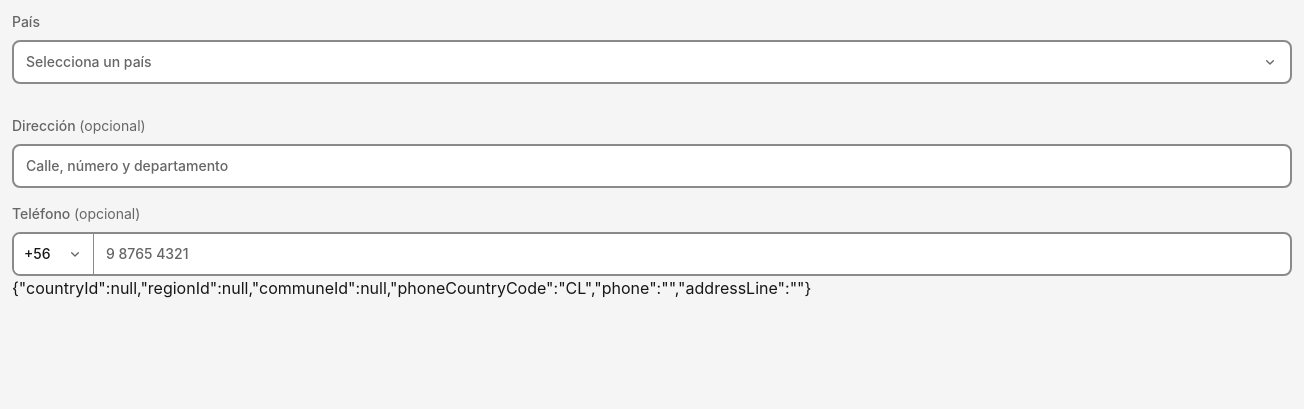
UserContactFields › does not preload address countries and limits searched results
Click the button "Selecciona un país" at (89, 62), box [12,40,1292,84]
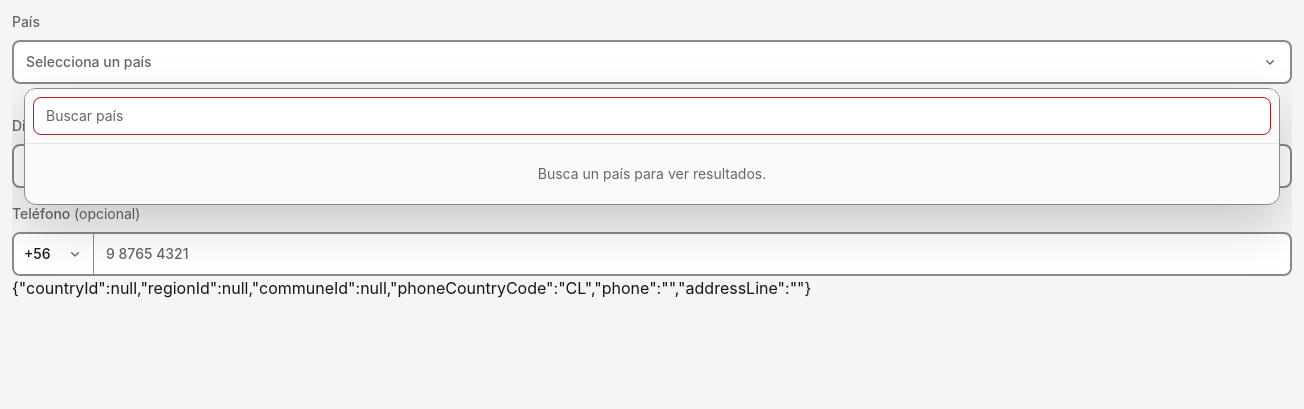
Check: the text "Busca un país para ver resultados." is shown, box [538,165,766,182]
Type "País de prueba" into the search field labelled "Buscar país" at (652, 116), box [33,97,1271,135]
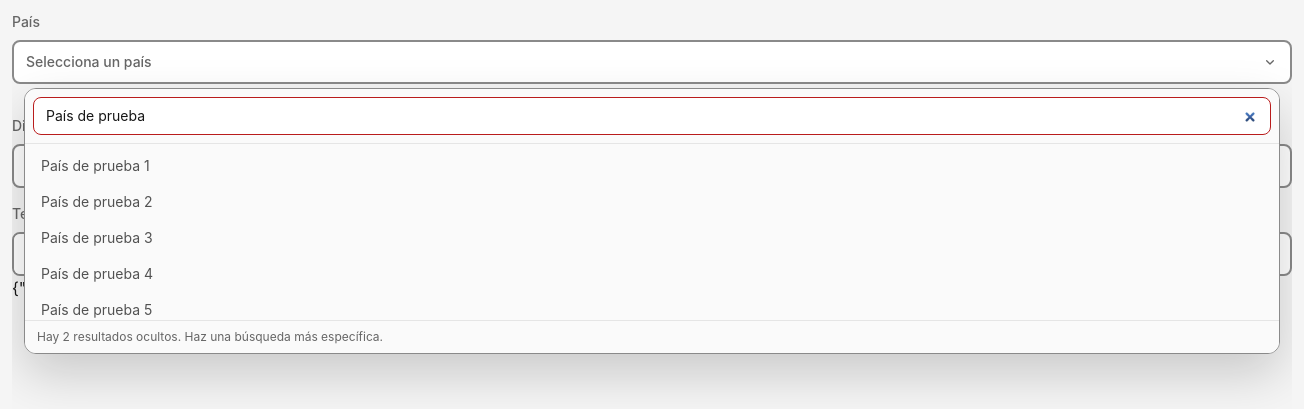
Check: the text "Hay 2 resultados ocultos. Haz una búsqueda más específica." is shown, box [25,320,1279,353]
